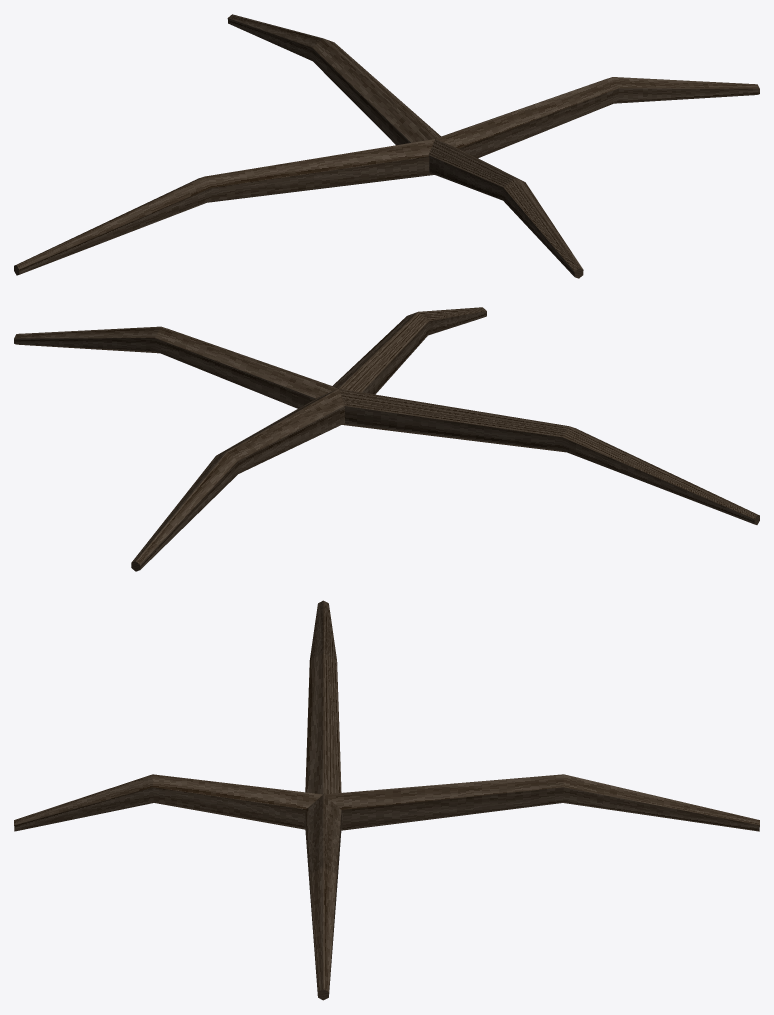
File: env_ground_12_roots_thin.glb
3 views of the same model, one above another, from view 1: azimuth 30°, elevation 25°; view 2: azimuth 150°, elevation 25°; view 3: azimuth 270°, elevation 25° (orthographic). The views are drawn at different scales.
Parts seen in each view (by area): view 1: solid; view 2: solid; view 3: solid.
Part boxes in pixels (left/top/right/bottom): solid: left=14, top=14, right=759, bottom=278; solid: left=14, top=307, right=759, bottom=571; solid: left=14, top=600, right=759, bottom=1000.
Size of the model in its own units: 1.16 by 0.082 by 0.9438.
Materials: 1 (1 with a texture image).
